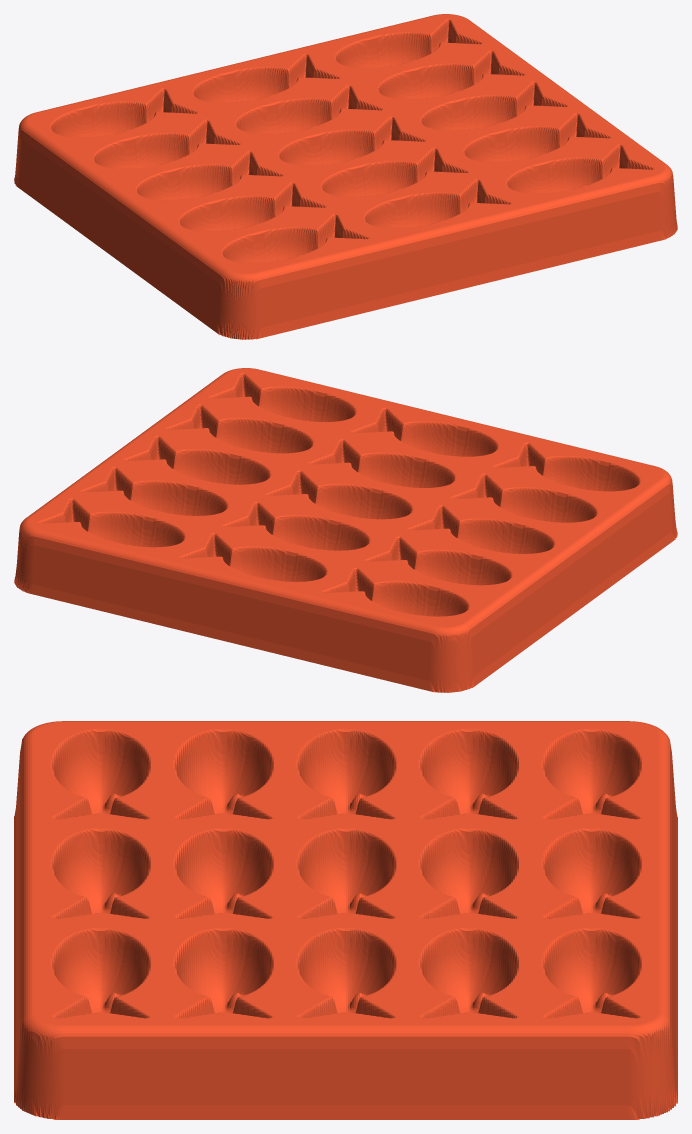
The model's file is mold.glb.
3 views of the same model, one above another, from view 1: azimuth 30°, elevation 25°; view 2: azimuth 150°, elevation 25°; view 3: azimuth 270°, elevation 25° (orthographic). The views are drawn at different scales.
Parts seen in each view (by area): view 1: geometry_0; view 2: geometry_0; view 3: geometry_0.
Part boxes in pixels (left/top/right/bottom): geometry_0: left=14, top=14, right=677, bottom=339; geometry_0: left=14, top=368, right=677, bottom=692; geometry_0: left=14, top=721, right=677, bottom=1119.
Bounding box in the file's own units: 0.1392 × 0.0175 × 0.1222.
